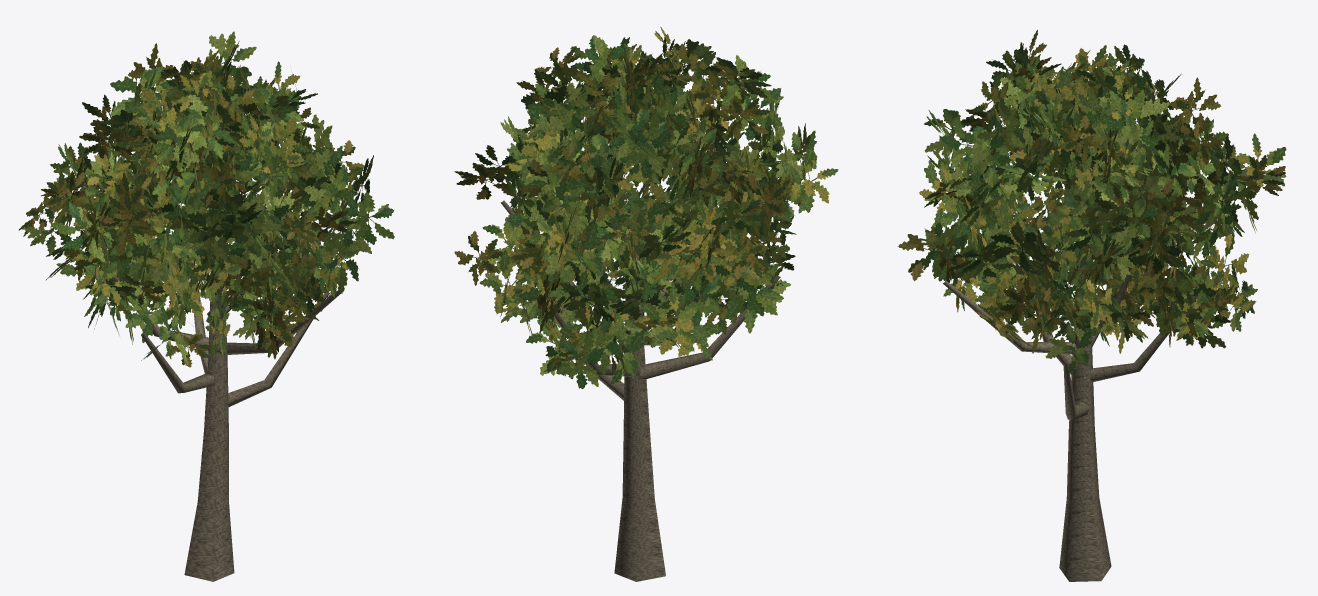
Rendered from OAK_local.glb.
3 renders of one model, left to right at view 1: azimuth 30°, elevation 25°; view 2: azimuth 150°, elevation 25°; view 3: azimuth 270°, elevation 25°, orthographic. The views are drawn at different scales.
Visible parts, largest first — view 1: LOD2_06_CanopySector_02_AlphaMasked, LOD2_05_CanopySector_01_AlphaMasked, LOD2_08_CanopySector_04_AlphaMasked, LOD2_01_Trunk_OakBark, LOD2_07_CanopySector_03_AlphaMasked, LOD2_03_PrimaryLimbs_07; view 2: LOD2_08_CanopySector_04_AlphaMasked, LOD2_07_CanopySector_03_AlphaMasked, LOD2_06_CanopySector_02_AlphaMasked, LOD2_01_Trunk_OakBark, LOD2_05_CanopySector_01_AlphaMasked, LOD2_03_PrimaryLimbs_07; view 3: LOD2_07_CanopySector_03_AlphaMasked, LOD2_05_CanopySector_01_AlphaMasked, LOD2_06_CanopySector_02_AlphaMasked, LOD2_08_CanopySector_04_AlphaMasked, LOD2_01_Trunk_OakBark, LOD2_03_PrimaryLimbs_07.
Boxes of the visible parts, box(x1,y1,x2,y2) form: LOD2_06_CanopySector_02_AlphaMasked: box(81, 71, 287, 367); LOD2_05_CanopySector_01_AlphaMasked: box(198, 65, 394, 357); LOD2_08_CanopySector_04_AlphaMasked: box(18, 60, 210, 327); LOD2_01_Trunk_OakBark: box(184, 236, 234, 581); LOD2_07_CanopySector_03_AlphaMasked: box(126, 31, 364, 310); LOD2_03_PrimaryLimbs_07: box(114, 190, 343, 406); LOD2_08_CanopySector_04_AlphaMasked: box(544, 53, 796, 388); LOD2_07_CanopySector_03_AlphaMasked: box(454, 35, 651, 377); LOD2_06_CanopySector_02_AlphaMasked: box(635, 26, 838, 334); LOD2_01_Trunk_OakBark: box(614, 209, 665, 581); LOD2_05_CanopySector_01_AlphaMasked: box(513, 36, 720, 286); LOD2_03_PrimaryLimbs_07: box(500, 180, 780, 400); LOD2_07_CanopySector_03_AlphaMasked: box(1062, 58, 1283, 353); LOD2_05_CanopySector_01_AlphaMasked: box(919, 57, 1111, 372); LOD2_06_CanopySector_02_AlphaMasked: box(897, 30, 1102, 289); LOD2_08_CanopySector_04_AlphaMasked: box(1056, 44, 1286, 336); LOD2_01_Trunk_OakBark: box(1059, 246, 1111, 581); LOD2_03_PrimaryLimbs_07: box(943, 206, 1197, 419).
Size of the model in its own units: 7.55 by 11.47 by 8.11.
2 materials, 2 textured.
